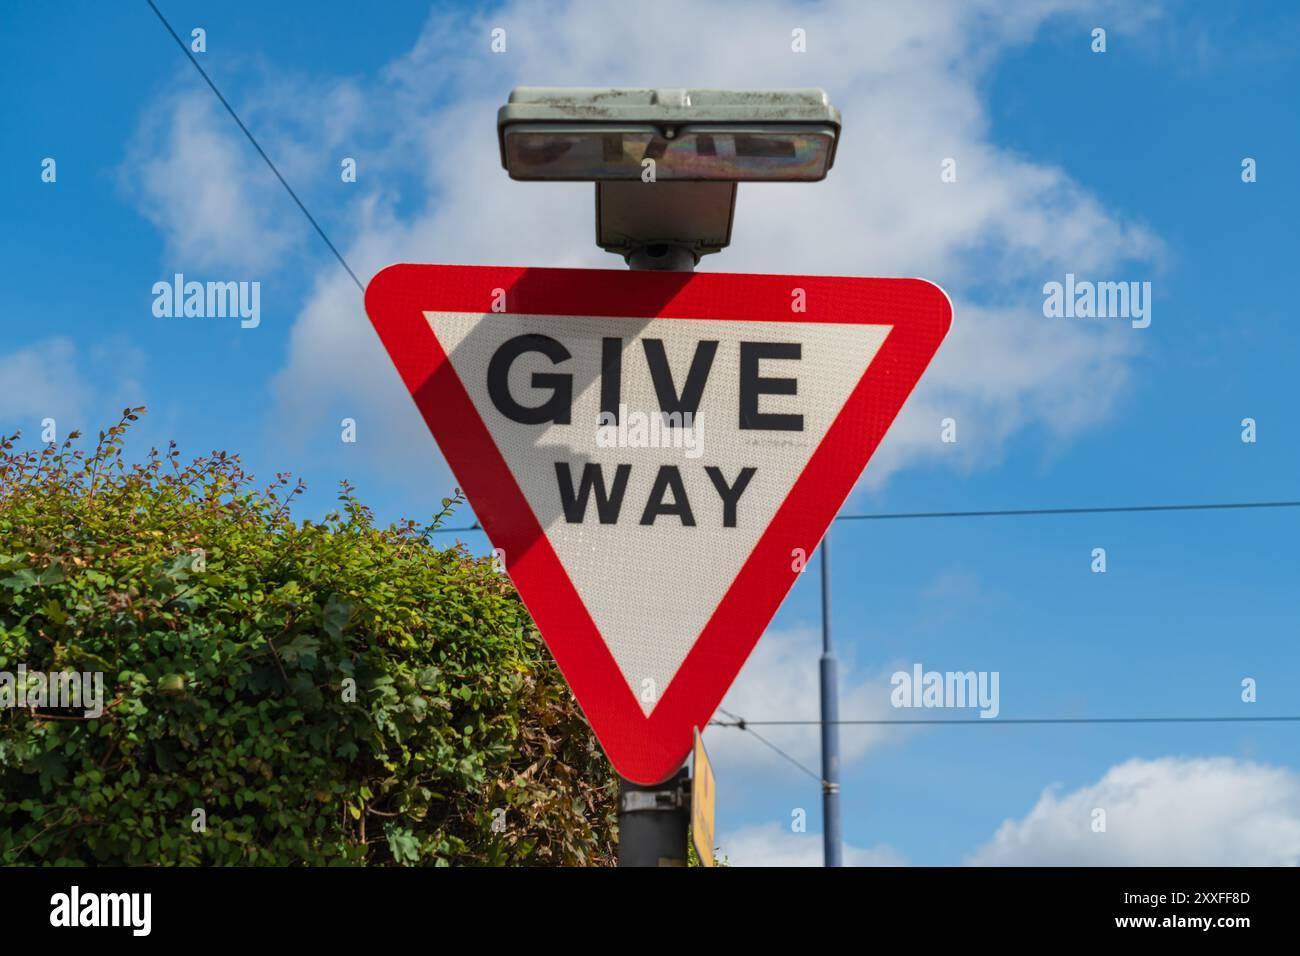give-way: (368, 265, 953, 792)
